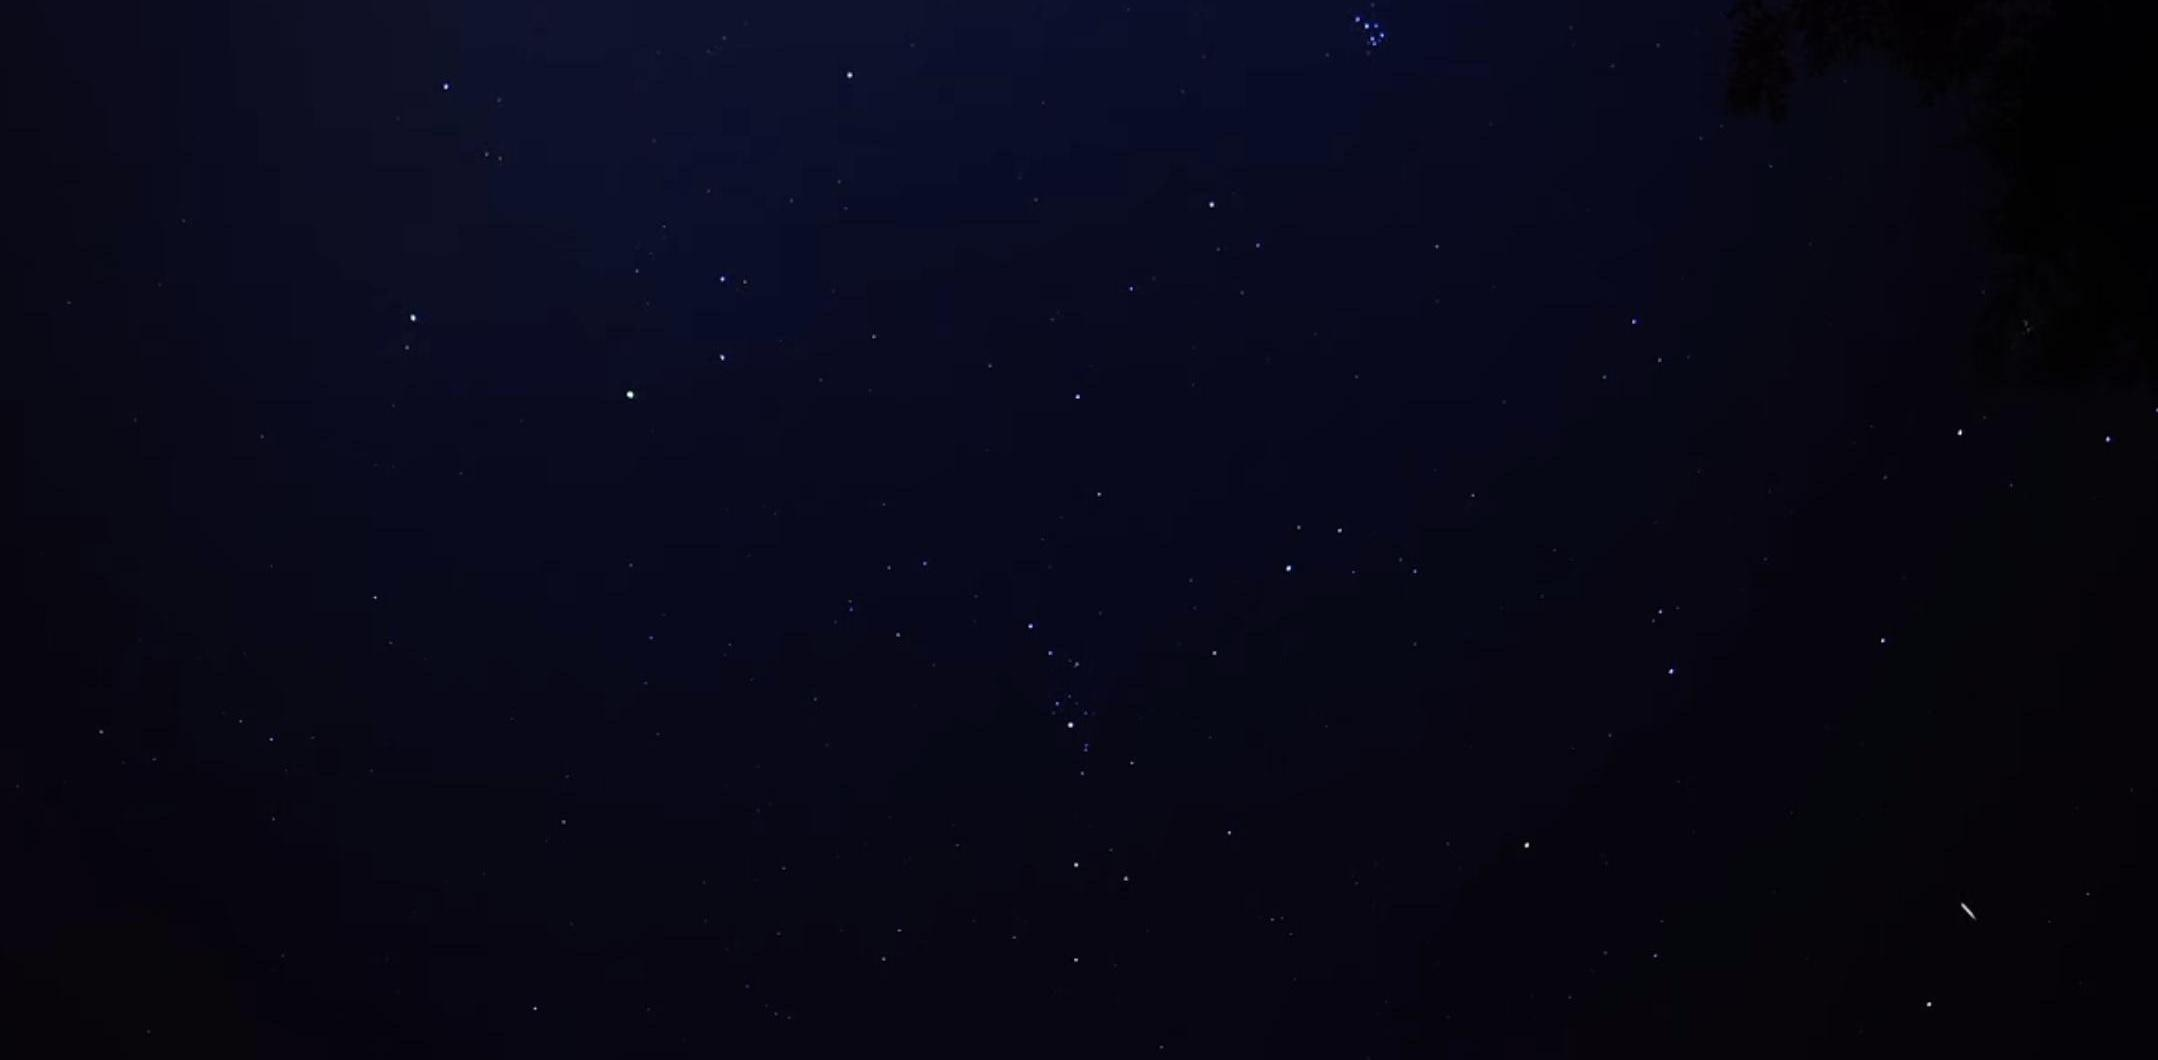meteorite: (1919, 891, 2013, 933)
